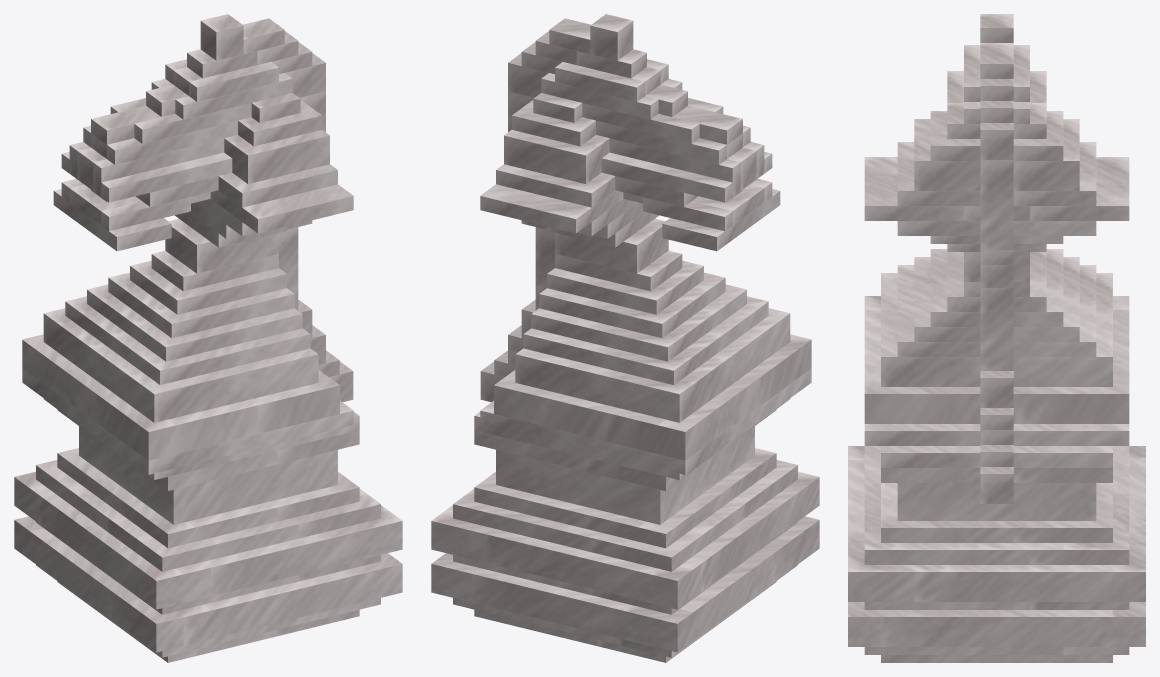
File: Cavalier (3).fbx
The picture shows the model from 3 angles, left to right: view 1: azimuth 30°, elevation 25°; view 2: azimuth 150°, elevation 25°; view 3: azimuth 270°, elevation 25°; orthographic projection. The views are drawn at different scales.
Visible parts, largest first — view 1: cube_2, cube_4, cube_13, cube_14, cube_7, cube_5, cube_6, cube_15, cube_16, cube_12, cube_17, cube_50 (+36 smaller); view 2: cube_2, cube_4, cube_13, cube_14, cube_7, cube_5, cube_6, cube_15, cube_16, cube_12, cube_17, cube_65 (+36 smaller); view 3: cube_2, cube_13, cube_4, cube_5, cube_14, cube_7, cube_6, cube_15, cube_12, cube_11, cube_16, cube_17 (+39 smaller).
Part boxes in pixels (<box>): cube_2: <box>14,471,402,609</box>; cube_4: <box>14,516,402,652</box>; cube_13: <box>22,334,339,460</box>; cube_14: <box>43,308,318,422</box>; cube_7: <box>79,426,337,524</box>; cube_5: <box>36,460,380,571</box>; cube_6: <box>57,448,359,548</box>; cube_15: <box>65,296,310,384</box>; cube_16: <box>87,284,302,361</box>; cube_12: <box>22,368,353,474</box>; cube_17: <box>108,272,294,338</box>; cube_50: <box>224,130,329,183</box>; cube_2: <box>431,471,819,609</box>; cube_4: <box>431,516,819,652</box>; cube_13: <box>494,334,811,460</box>; cube_14: <box>515,308,790,422</box>; cube_7: <box>496,426,754,524</box>; cube_5: <box>453,460,797,571</box>; cube_6: <box>474,448,776,548</box>; cube_15: <box>523,296,768,384</box>; cube_16: <box>531,284,746,361</box>; cube_12: <box>480,368,811,474</box>; cube_17: <box>539,272,725,338</box>; cube_65: <box>504,130,609,183</box>; cube_2: <box>848,446,1145,601</box>; cube_13: <box>864,296,1129,423</box>; cube_4: <box>848,602,1145,646</box>; cube_5: <box>864,446,1129,564</box>; cube_14: <box>881,273,1112,386</box>; cube_7: <box>897,483,1096,520</box>; cube_6: <box>881,483,1112,542</box>; cube_15: <box>897,265,1096,356</box>; cube_12: <box>864,424,1129,445</box>; cube_11: <box>881,446,1112,467</box>; cube_16: <box>914,257,1079,341</box>; cube_17: <box>930,249,1063,326</box>.
Bounding box in the file's own units: 119 × 250 × 112.
1 material, 1 textured.
